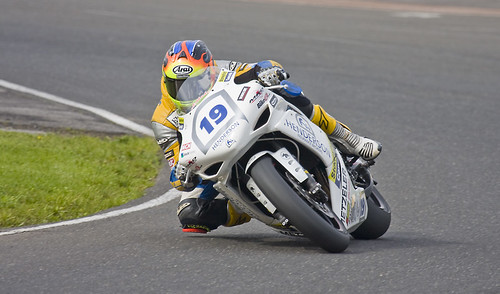helmet: (156, 32, 200, 101)
